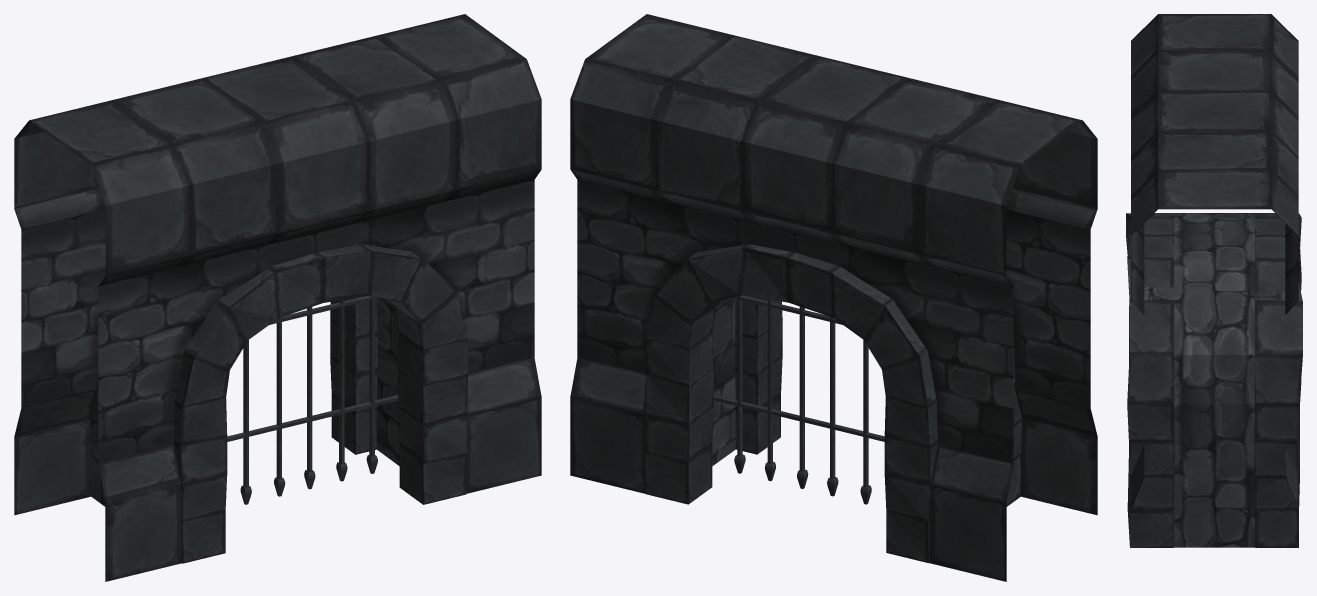
Rendered from cp_gatewall1_B.FBX.
3 views of the same model, side by side, from view 1: azimuth 30°, elevation 25°; view 2: azimuth 150°, elevation 25°; view 3: azimuth 270°, elevation 25° (orthographic). The views are drawn at different scales.
Parts seen in each view (by area): view 1: gatewall, gate; view 2: gatewall, gate; view 3: gatewall.
Part boxes in pixels (x1=…): gatewall: x1=14, y1=14, x2=541, y2=581; gate: x1=227, y1=295, x2=397, y2=504; gatewall: x1=570, y1=14, x2=1097, y2=581; gate: x1=713, y1=295, x2=884, y2=504; gatewall: x1=1126, y1=14, x2=1302, y2=547.
Bounding box in the file's own units: 43.98 × 39.15 × 16.83.
